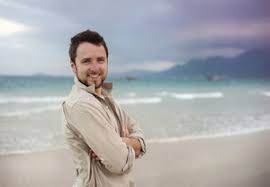white_male: (72, 36, 113, 97)
